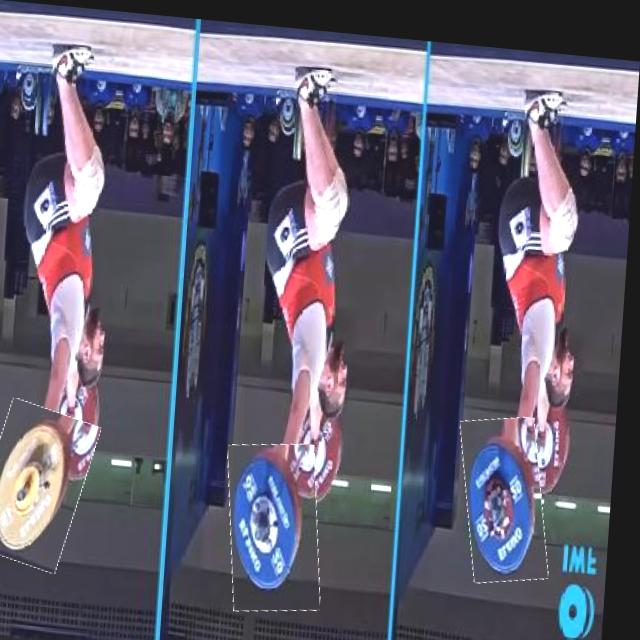barbell: (230, 435, 333, 611), (1, 400, 100, 570), (464, 404, 559, 576)
